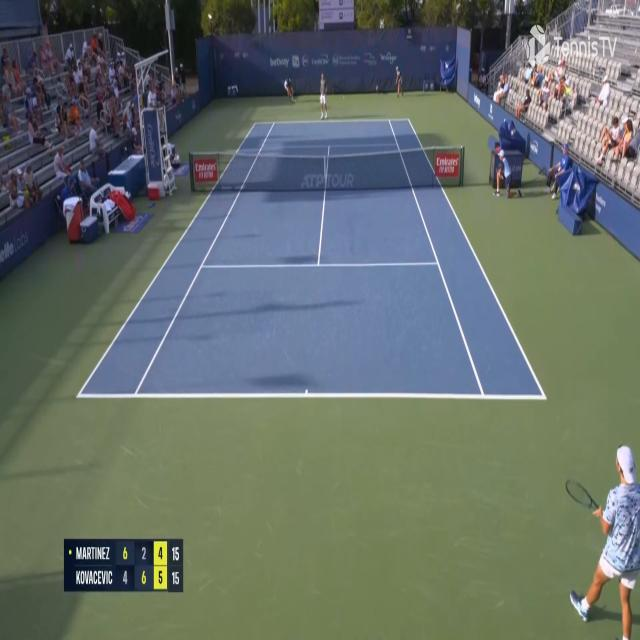tennis-player: (565, 435, 640, 630), (318, 69, 329, 121)
